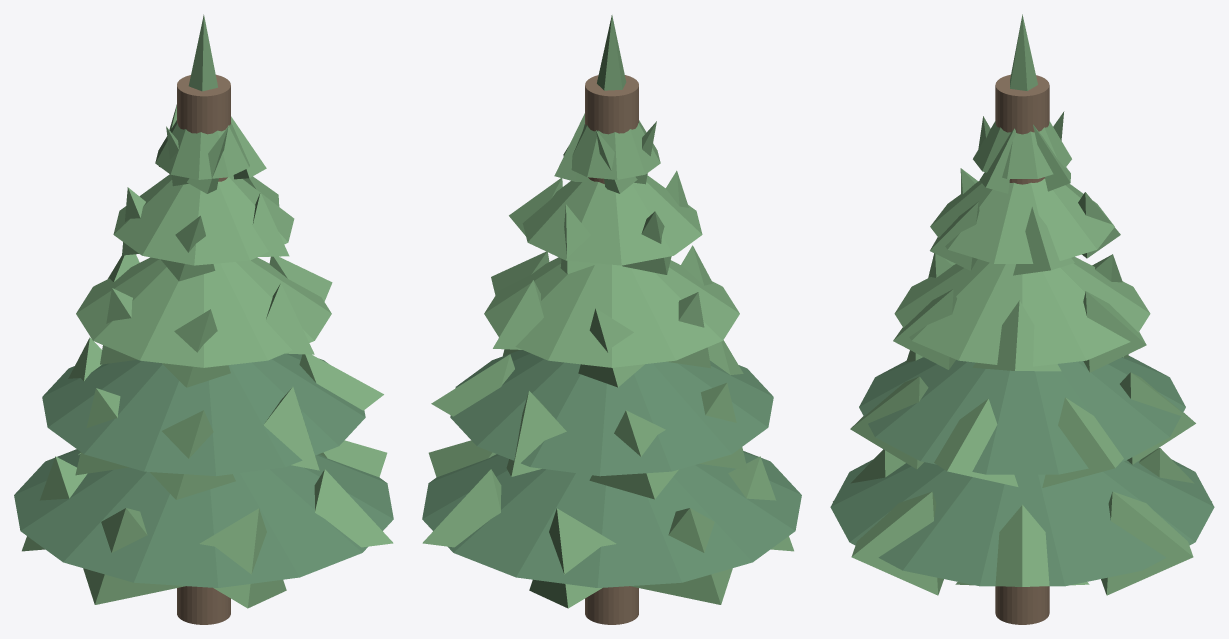
The model's file is aoe_spruce_medium_01.glb.
The picture shows the model from 3 angles, left to right: view 1: azimuth 30°, elevation 25°; view 2: azimuth 150°, elevation 25°; view 3: azimuth 270°, elevation 25°; orthographic projection.
Visible parts, largest first — view 1: Cone, Cone.008, Cone.016, Cone.023, Cylinder, Cone.029, Cone.006, Cone.005, Cone.007, Cone.013, Cone.014, Cone.015 (+14 smaller); view 2: Cone, Cone.008, Cone.016, Cone.023, Cylinder, Cone.029, Cone.003, Cone.004, Cone.002, Cone.011, Cone.010, Cone.009 (+15 smaller); view 3: Cone, Cone.008, Cone.016, Cone.023, Cylinder, Cone.002, Cone.007, Cone.001, Cone.029, Cone.009, Cone.015, Cone.022 (+12 smaller).
Part boxes in pixels (bbox=[...]): Cone: bbox=[14, 449, 393, 587]; Cone.008: bbox=[42, 353, 365, 476]; Cone.016: bbox=[76, 257, 331, 367]; Cone.023: bbox=[113, 174, 294, 265]; Cylinder: bbox=[177, 74, 230, 624]; Cone.029: bbox=[155, 120, 249, 179]; Cone.006: bbox=[199, 508, 286, 608]; Cone.005: bbox=[83, 508, 185, 604]; Cone.007: bbox=[314, 469, 393, 547]; Cone.013: bbox=[150, 410, 235, 499]; Cone.014: bbox=[263, 387, 319, 470]; Cone.015: bbox=[299, 354, 383, 410]; Cone: bbox=[422, 451, 801, 587]; Cone.008: bbox=[450, 350, 773, 476]; Cone.016: bbox=[484, 257, 739, 367]; Cone.023: bbox=[522, 175, 702, 265]; Cylinder: bbox=[585, 75, 638, 624]; Cone.029: bbox=[563, 120, 660, 179]; Cone.003: bbox=[529, 508, 616, 608]; Cone.004: bbox=[630, 508, 732, 604]; Cone.002: bbox=[422, 469, 501, 547]; Cone.011: bbox=[589, 410, 678, 499]; Cone.010: bbox=[506, 391, 566, 476]; Cone.009: bbox=[431, 354, 514, 416]; Cone: bbox=[830, 459, 1214, 586]; Cone.008: bbox=[859, 356, 1185, 474]; Cone.016: bbox=[894, 256, 1150, 366]; Cone.023: bbox=[930, 178, 1114, 263]; Cylinder: bbox=[995, 74, 1049, 624]; Cone.002: bbox=[1101, 491, 1193, 595]; Cone.007: bbox=[851, 491, 943, 595]; Cone.001: bbox=[955, 505, 1089, 586]; Cone.029: bbox=[973, 121, 1071, 178]; Cone.009: bbox=[1042, 397, 1123, 487]; Cone.015: bbox=[934, 398, 1018, 486]; Cone.022: bbox=[972, 300, 1061, 371].
Size of the model in its own units: 5.61 by 9.3 by 5.4.
